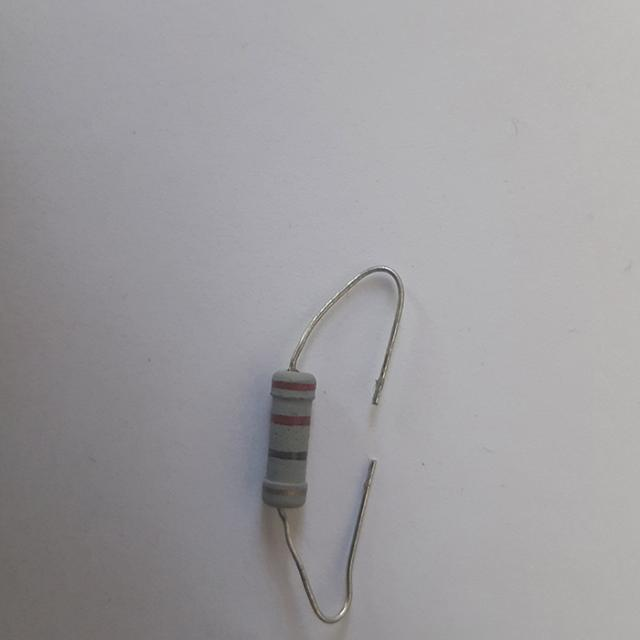brown: (269, 449, 306, 459)
gold: (264, 485, 304, 495)
red: (272, 379, 314, 389), (271, 413, 308, 424)
resistor: (241, 349, 342, 524)
